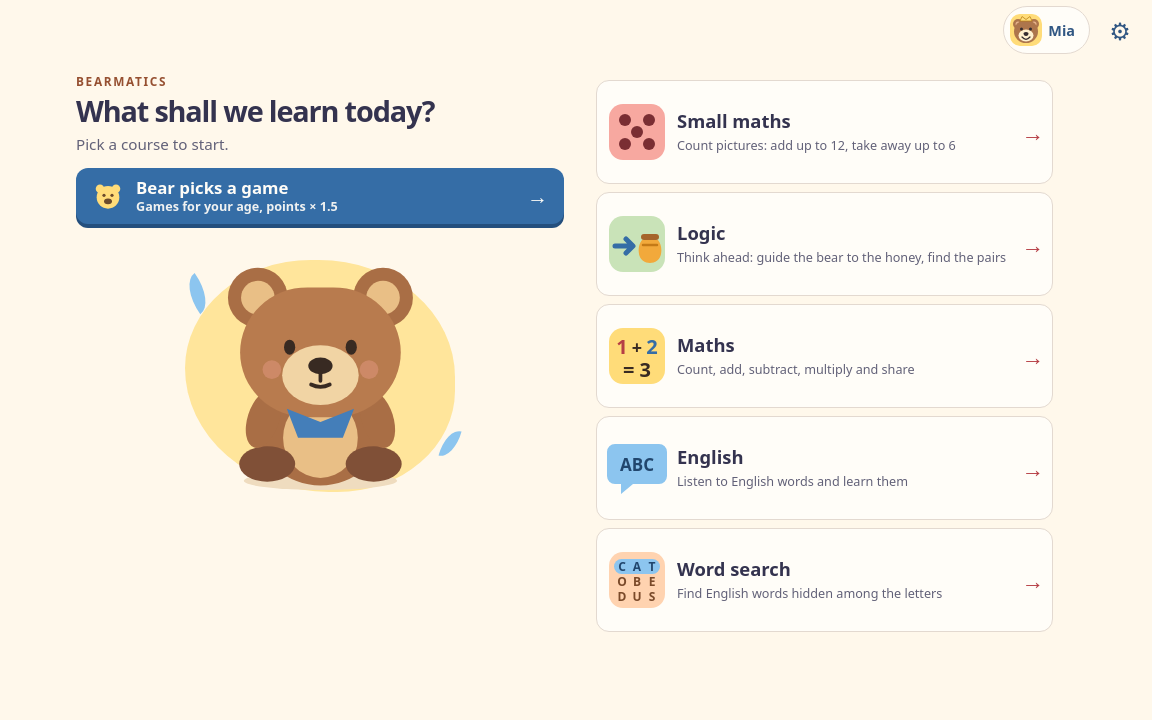
it: SCRUM-281: Cancel in the Leaderboard window keeps the old choice and sends nothing
Click the button with aria-label "Your profile: Mia" at {"x": 1047, "y": 30}, box [1003,6,1090,54]
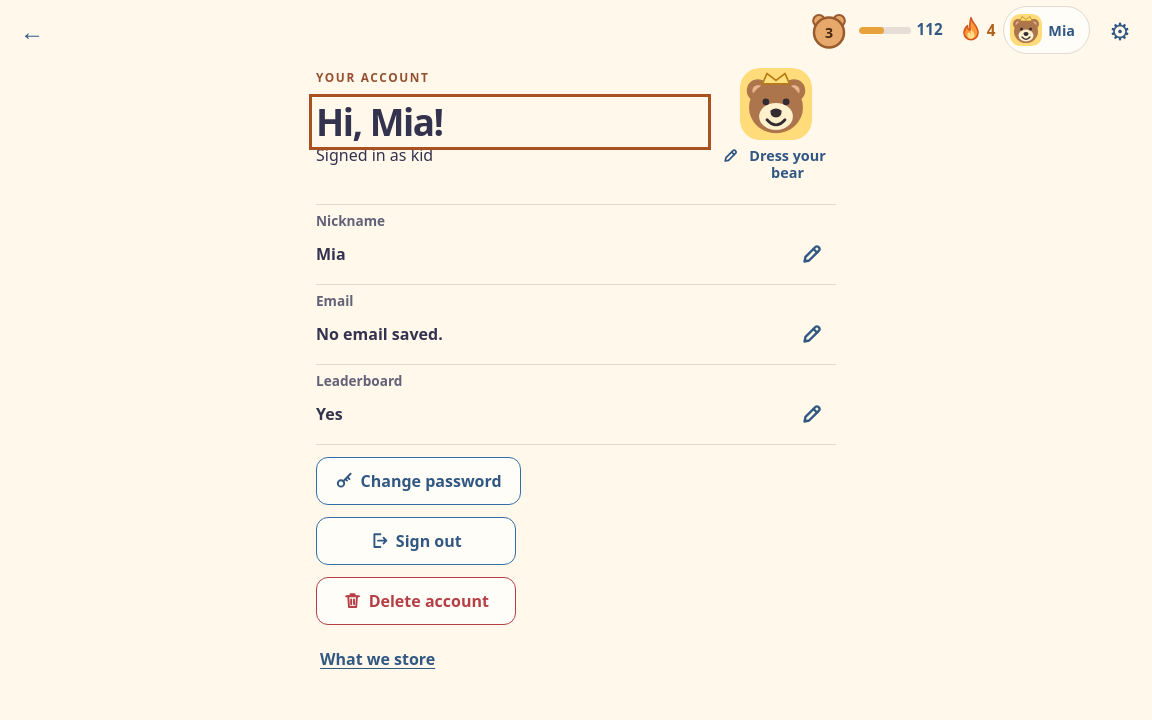
Click the button named "Change leaderboard" at {"x": 812, "y": 414}, box [788,390,836,438]
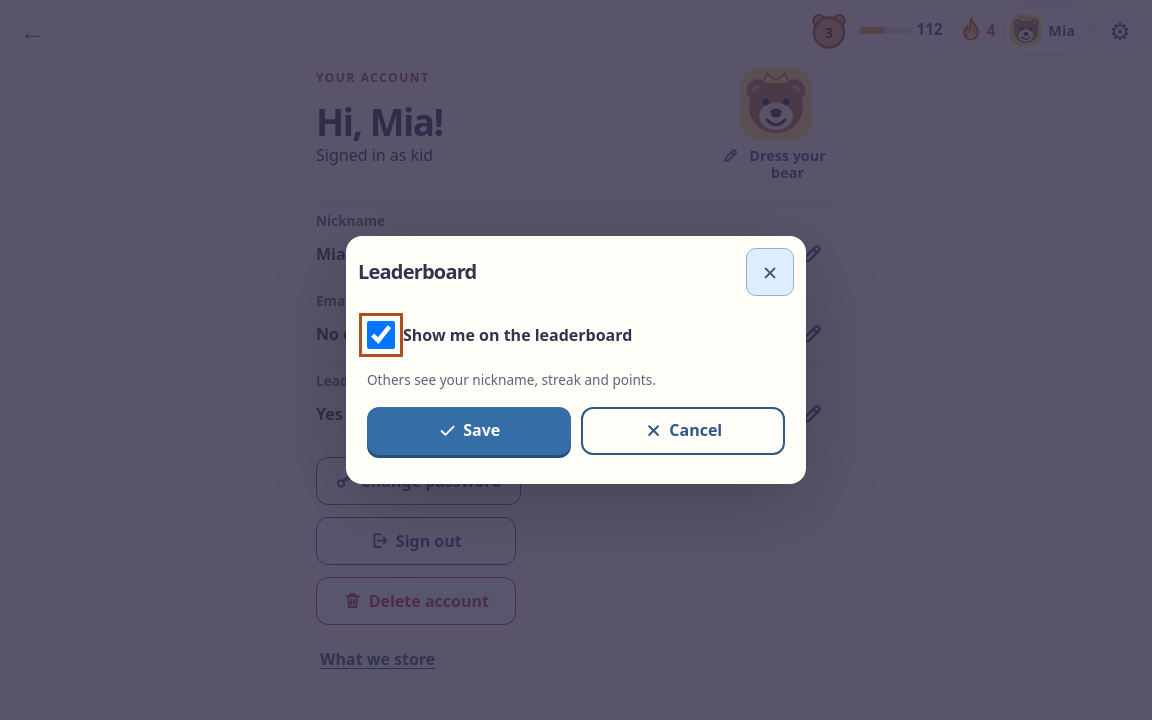
Click the checkbox labelled "Show me on the leaderboard" at {"x": 381, "y": 335}, box [367,321,395,349]
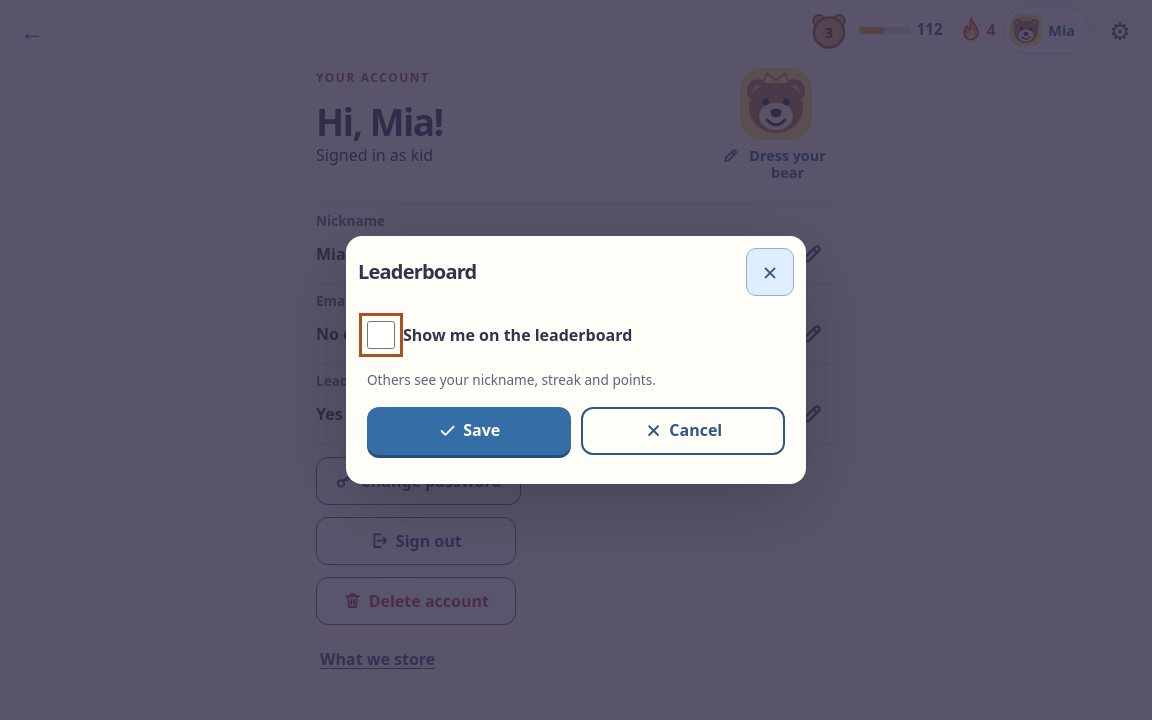
Click the button "Cancel" at {"x": 683, "y": 431}, box [581,407,785,455]
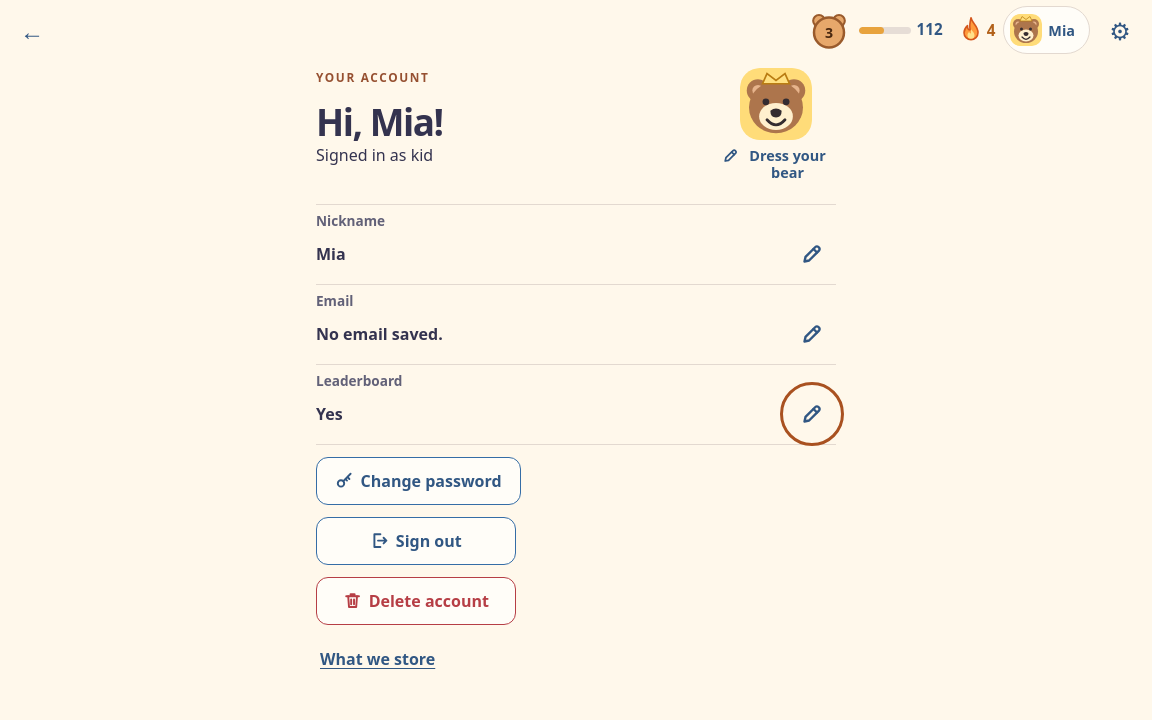
Expected: the dialog is gone
Click the button named "Change leaderboard" at {"x": 812, "y": 414}, box [788,390,836,438]
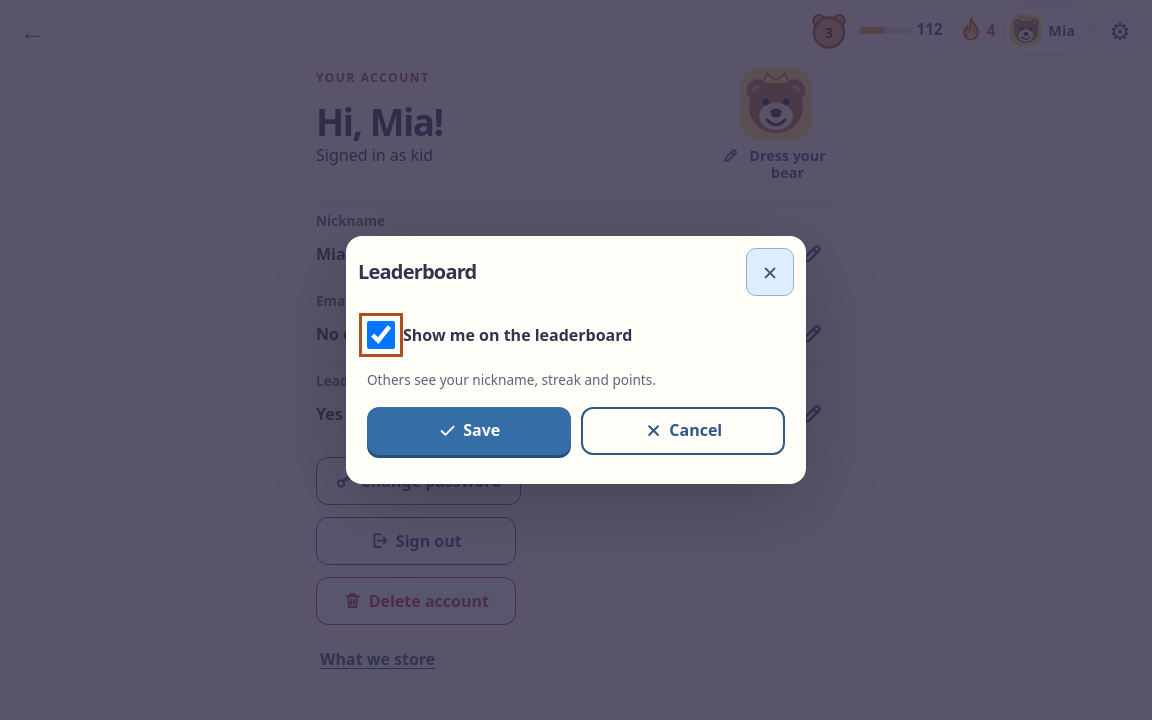
Expected: the checkbox labelled "Show me on the leaderboard" is checked, [367,321,395,349]
